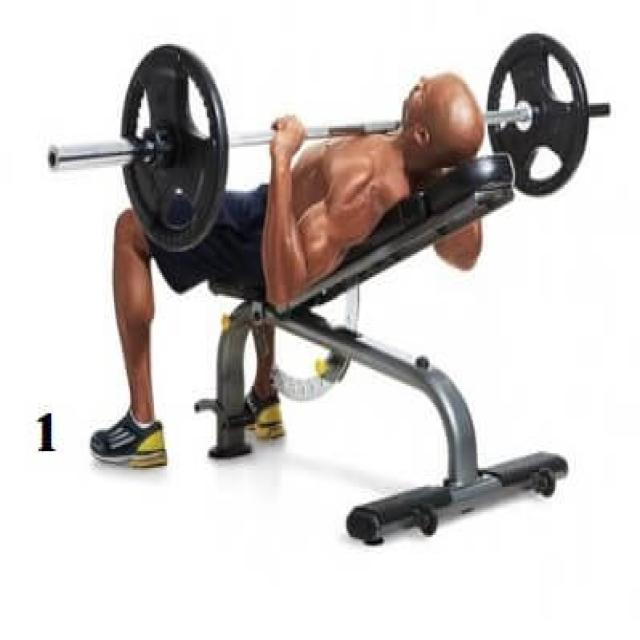bench: (41, 0, 621, 538)
